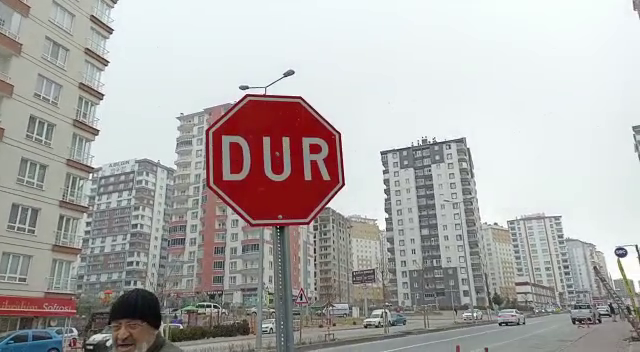stop: (203, 91, 348, 229)
